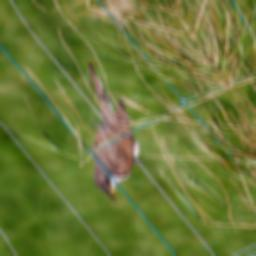Cuckoo: (21, 56, 187, 207)
